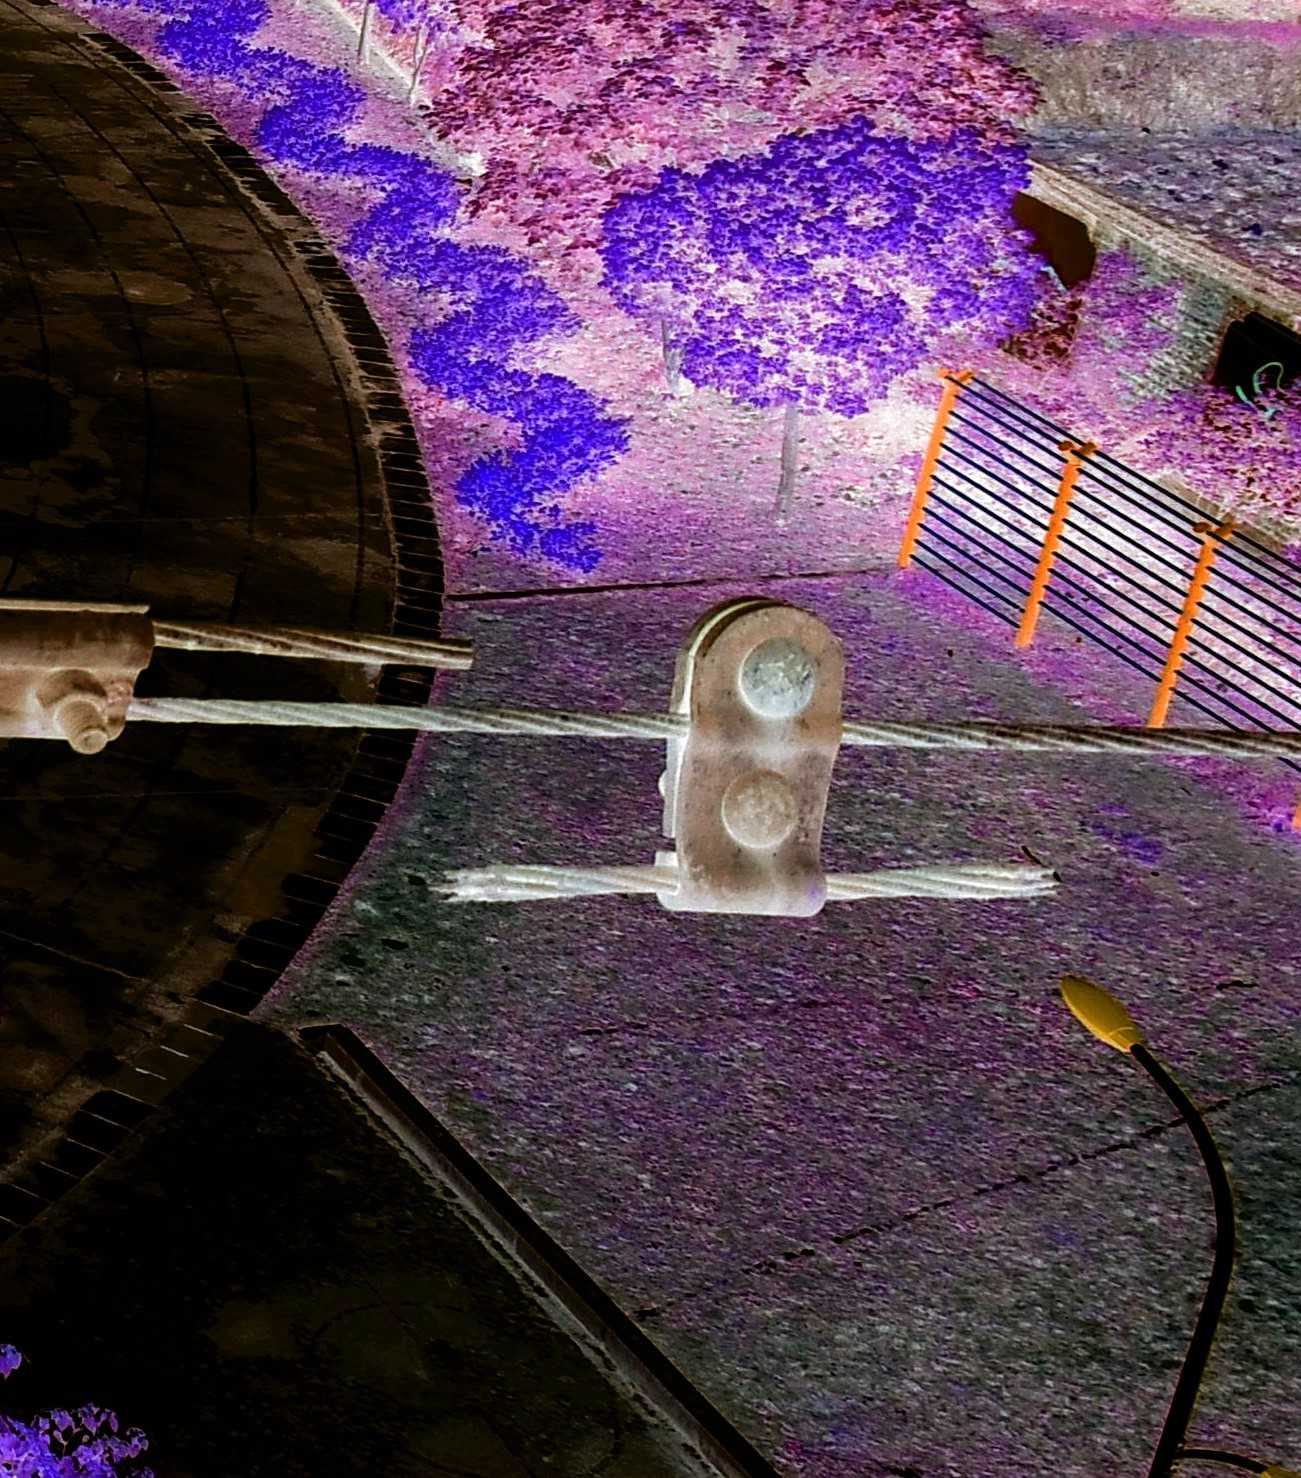Damage of shockproof hammer: (405, 574, 1102, 950)
